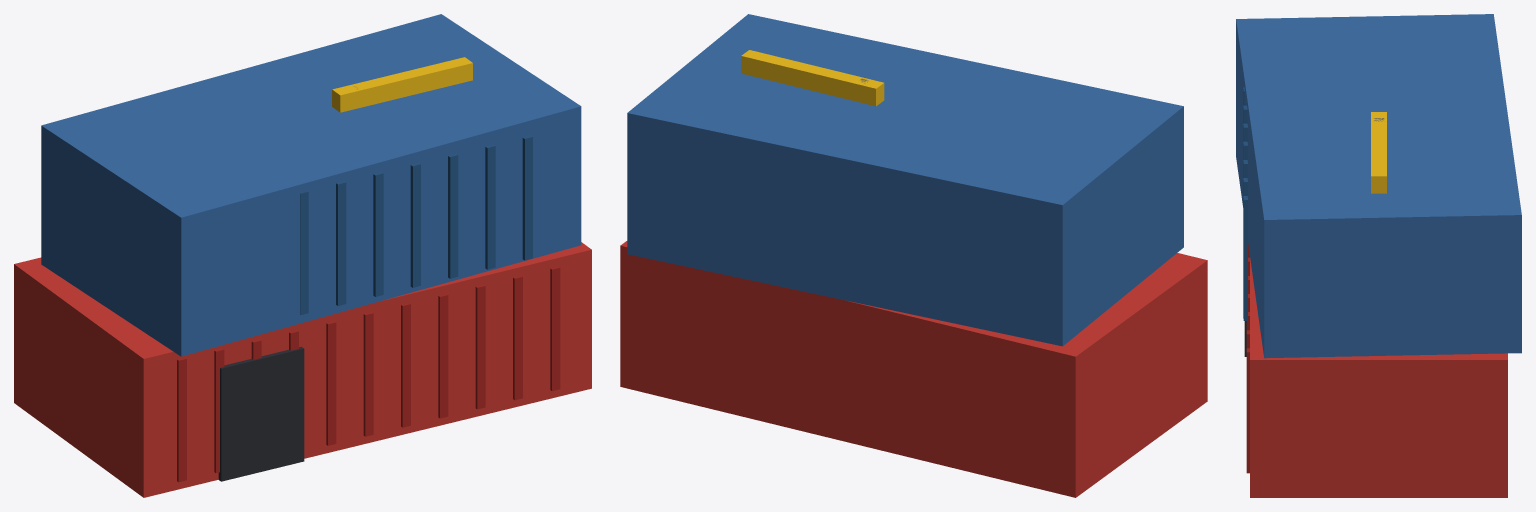
File: env_r7_container_shack.glb
3 renders of one model, left to right at view 1: azimuth 30°, elevation 25°; view 2: azimuth 150°, elevation 25°; view 3: azimuth 270°, elevation 25°, orthographic. The views are drawn at different scales.
Parts seen in each view (by area): view 1: env_r7_container_shack; view 2: env_r7_container_shack; view 3: env_r7_container_shack.
Boxes of the visible parts, left/top/right/bottom form: env_r7_container_shack: left=14, top=14, right=591, bottom=497; env_r7_container_shack: left=620, top=14, right=1207, bottom=497; env_r7_container_shack: left=1236, top=14, right=1521, bottom=497.
Size of the model in its own units: 5.4 by 3.4 by 3.
Materials: 1 (1 with a texture image).
